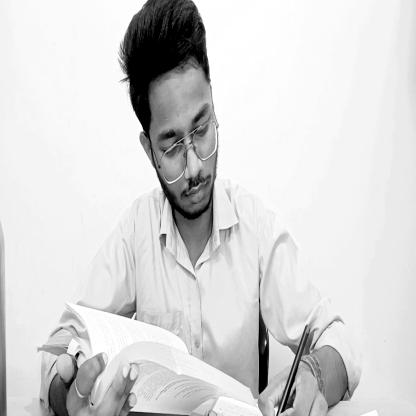Distracted: (125, 0, 228, 228)
